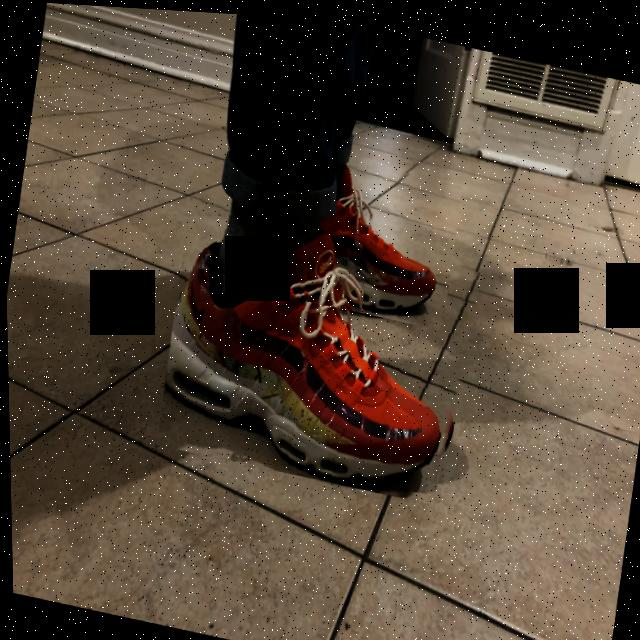shoe: (150, 192, 487, 505), (292, 145, 465, 326)
